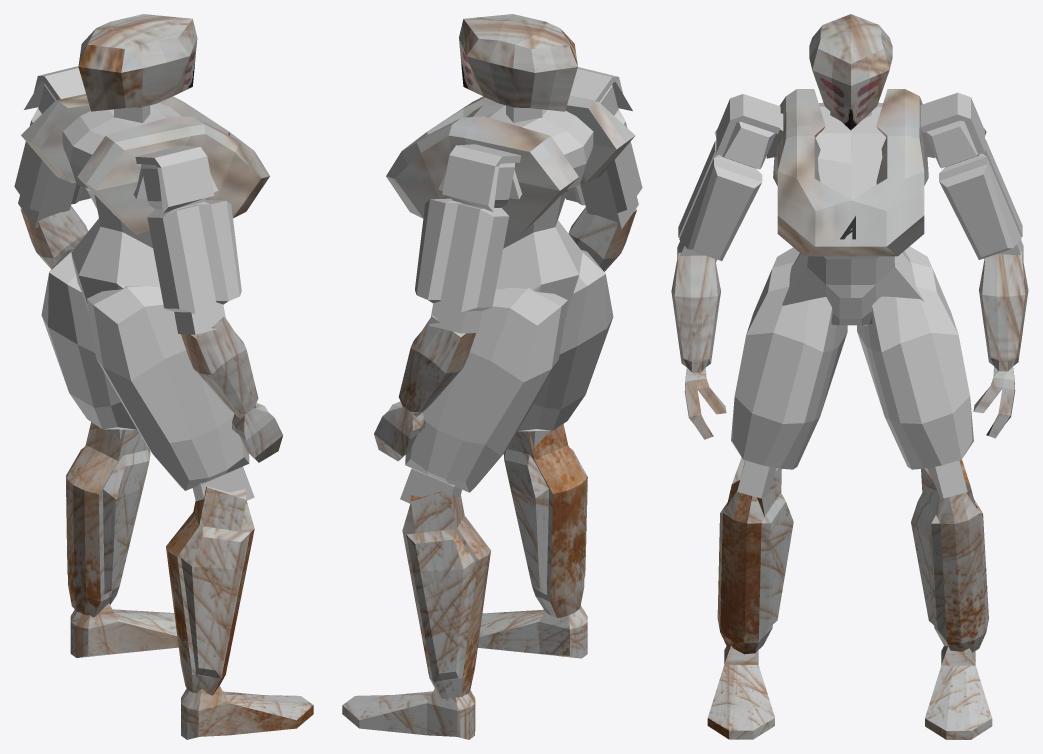
Rendered from follower.fbx.
3 renders of one model, left to right at view 1: azimuth 30°, elevation 25°; view 2: azimuth 150°, elevation 25°; view 3: azimuth 270°, elevation 25°, orthographic. The views are drawn at different scales.
Visible parts, largest first — view 1: Cube.005, Cube.010, Cube.012, Cube.008, Cube.007, Cube.013, Cube.001, Cube.004, Cube.011, Cube.009, Cube.002, Cube.006 (+1 smaller); view 2: Cube.004, Cube.002, Cube.010, Cube.007, Cube.008, Cube.013, Cube.001, Cube.005, Cube.003, Cube.012, Cube.006, Cube.009 (+1 smaller); view 3: Cube.010, Cube.004, Cube.005, Cube.001, Cube.008, Cube.007, Cube.002, Cube.012, Cube.013, Cube.011, Cube.003, Cube.006 (+1 smaller).
Boxes of the visible parts, x1,y1,x2,y2 form: Cube.005: [87, 286, 254, 501]; Cube.010: [21, 94, 269, 234]; Cube.012: [135, 145, 241, 334]; Cube.008: [166, 486, 254, 695]; Cube.007: [66, 422, 150, 617]; Cube.013: [78, 14, 197, 111]; Cube.001: [62, 103, 181, 312]; Cube.004: [41, 248, 136, 440]; Cube.011: [181, 317, 283, 462]; Cube.009: [181, 685, 313, 739]; Cube.002: [14, 66, 90, 227]; Cube.006: [70, 603, 178, 657]; Cube.004: [400, 287, 567, 503]; Cube.002: [415, 144, 521, 333]; Cube.010: [386, 96, 635, 234]; Cube.007: [402, 489, 490, 699]; Cube.008: [503, 424, 587, 618]; Cube.013: [459, 14, 577, 111]; Cube.001: [466, 103, 593, 317]; Cube.005: [518, 250, 613, 447]; Cube.003: [374, 315, 475, 461]; Cube.012: [565, 67, 642, 229]; Cube.006: [342, 688, 475, 739]; Cube.009: [478, 605, 587, 658]; Cube.010: [773, 89, 928, 256]; Cube.004: [857, 246, 973, 498]; Cube.005: [731, 247, 847, 498]; Cube.001: [766, 102, 935, 325]; Cube.008: [717, 457, 793, 654]; Cube.007: [911, 459, 988, 652]; Cube.002: [920, 92, 1023, 260]; Cube.012: [677, 94, 780, 264]; Cube.013: [809, 14, 892, 130]; Cube.011: [671, 252, 726, 439]; Cube.003: [973, 251, 1028, 438]; Cube.006: [925, 645, 992, 739].
Size of the model in its own units: 327 by 1085 by 537.
